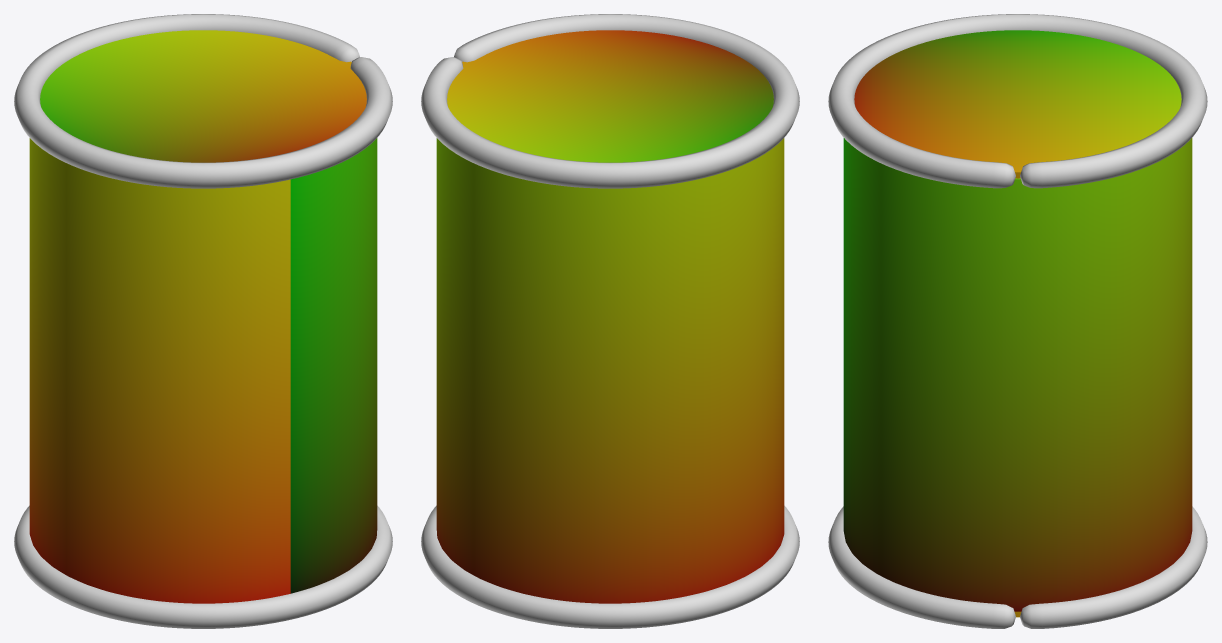
Rendered from can_peaches.glb.
3 views of the same model, side by side, from view 1: azimuth 30°, elevation 25°; view 2: azimuth 150°, elevation 25°; view 3: azimuth 270°, elevation 25° (orthographic).
Parts seen in each view (by area): view 1: can_peaches; view 2: can_peaches; view 3: can_peaches.
Boxes of the visible parts, x1=… form: can_peaches: x1=14, y1=14, x2=392, y2=628; can_peaches: x1=421, y1=14, x2=799, y2=628; can_peaches: x1=828, y1=14, x2=1207, y2=628.
Size of the model in its own units: 0.0824 by 0.1119 by 0.0826.
